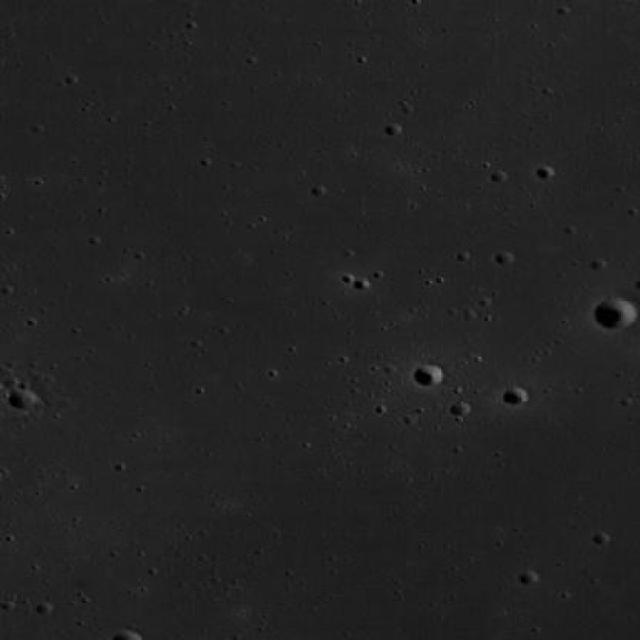crater: (593, 298, 636, 329), (7, 387, 38, 410), (413, 364, 442, 386), (502, 386, 528, 404), (448, 398, 470, 416), (516, 568, 539, 584)
